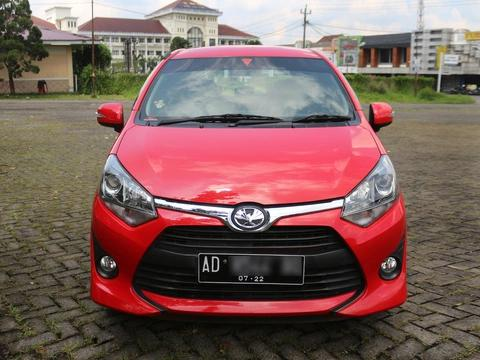mobil: (98, 37, 412, 332)
plat: (189, 250, 316, 296)
